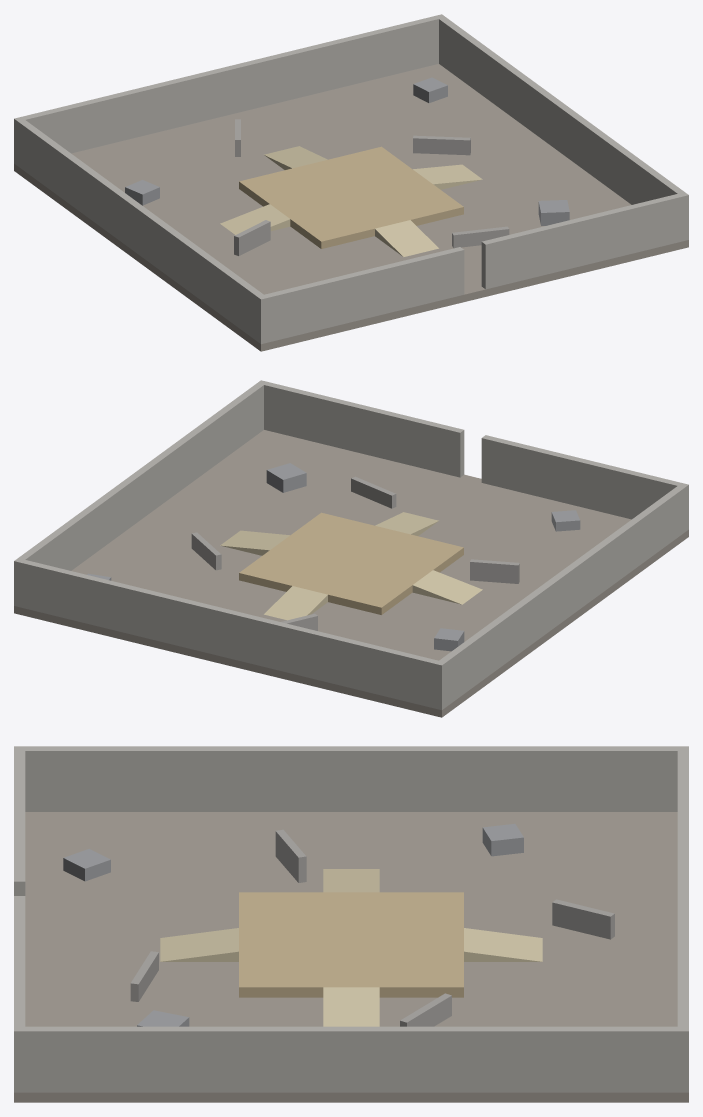
File: level.glb
3 views of the same model, one above another, from view 1: azimuth 30°, elevation 25°; view 2: azimuth 150°, elevation 25°; view 3: azimuth 270°, elevation 25° (orthographic). The views are drawn at different scales.
Parts seen in each view (by area): view 1: VIS_Ground, VIS_RimNorth, VIS_RimWest, VIS_Dais, VIS_RimEast, VIS_RimSouthW, VIS_RimSouthE, VIS_DaisSouth, VIS_DaisWest, VIS_RuinEast, VIS_DaisEast, VIS_DaisNorth (+5 smaller); view 2: VIS_Ground, VIS_RimNorth, VIS_RimWest, VIS_Dais, VIS_RimEast, VIS_RimSouthE, VIS_RimSouthW, VIS_DaisWest, VIS_DaisNorth, VIS_RuinWest, VIS_DaisEast, VIS_RockB (+5 smaller); view 3: VIS_Ground, VIS_RimEast, VIS_RimWest, VIS_Dais, VIS_RimNorth, VIS_DaisNorth, VIS_DaisSouth, VIS_DaisEast, VIS_RimSouthE, VIS_RimSouthW, VIS_RuinNorth, VIS_DaisWest (+6 smaller).
Boxes of the visible parts, x1,y1,x2,y2 form: VIS_Ground: (14,64,688,351); VIS_RimNorth: (14,14,443,165); VIS_RimWest: (14,118,268,343); VIS_Dais: (239,146,463,248); VIS_RimEast: (435,14,688,241); VIS_RimSouthW: (257,247,464,344); VIS_RimSouthE: (481,192,688,289); VIS_DaisSouth: (375,220,438,256); VIS_DaisWest: (220,204,290,234); VIS_RuinEast: (413,135,470,155); VIS_DaisEast: (413,164,482,189); VIS_DaisNorth: (264,146,327,169); VIS_Ground: (14,430,688,717); VIS_RimNorth: (14,558,445,710); VIS_RimWest: (434,483,688,709); VIS_Dais: (239,512,463,614); VIS_RimEast: (14,380,267,607); VIS_RimSouthE: (258,381,464,477); VIS_RimSouthW: (481,435,688,529); VIS_DaisWest: (412,570,482,604); VIS_DaisNorth: (264,586,327,620); VIS_RuinWest: (470,559,519,583); VIS_DaisEast: (220,530,289,555); VIS_RockB: (266,463,306,492); VIS_Ground: (14,812,688,1102); VIS_RimEast: (14,1026,688,1092); VIS_RimWest: (14,746,688,811); VIS_Dais: (239,892,463,997); VIS_RimNorth: (677,746,688,1092); VIS_DaisNorth: (464,928,542,961); VIS_DaisSouth: (160,928,238,961); VIS_DaisEast: (323,987,379,1026); VIS_RimSouthE: (14,896,25,1092); VIS_RimSouthW: (14,746,25,895); VIS_RuinNorth: (552,899,614,939); VIS_DaisWest: (323,869,379,892).
Bounding box in the file's own units: 120 × 14 × 120.
